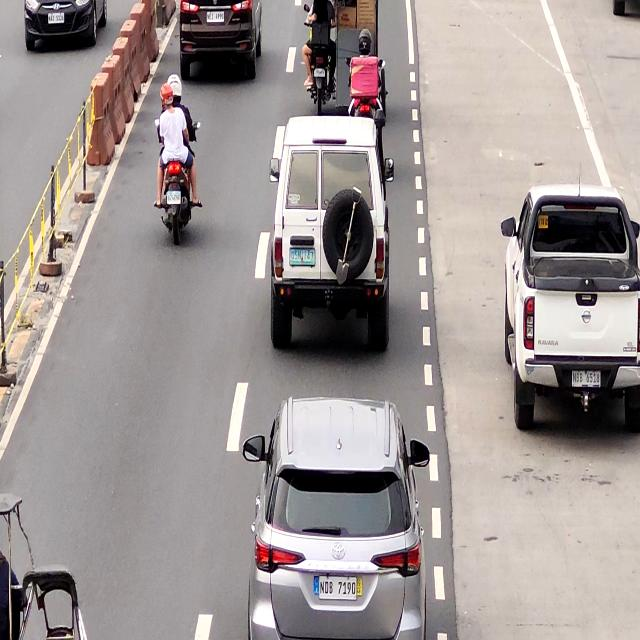Car: (254, 400, 426, 640), (499, 188, 640, 435), (272, 118, 392, 348), (176, 0, 264, 82)
License-Plate: (310, 576, 362, 604), (571, 368, 603, 389), (289, 248, 316, 268), (204, 10, 226, 24), (166, 190, 182, 208)
Motorcycle: (154, 73, 197, 250), (347, 31, 386, 117)
